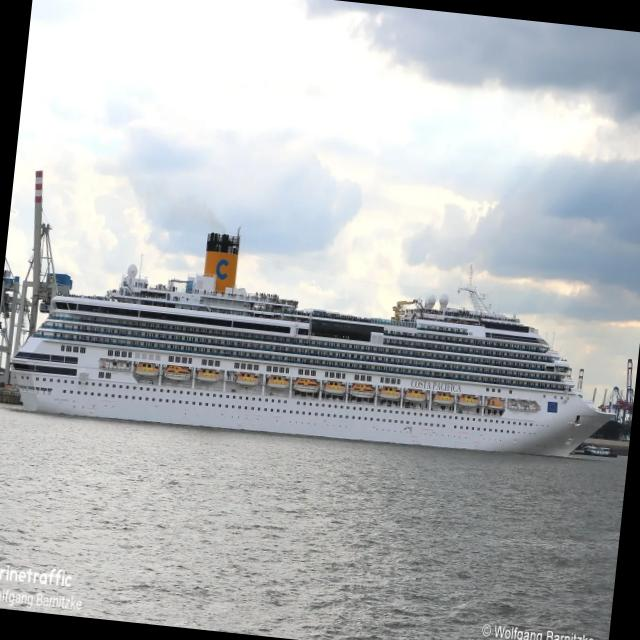Cruise: (11, 232, 611, 456)
